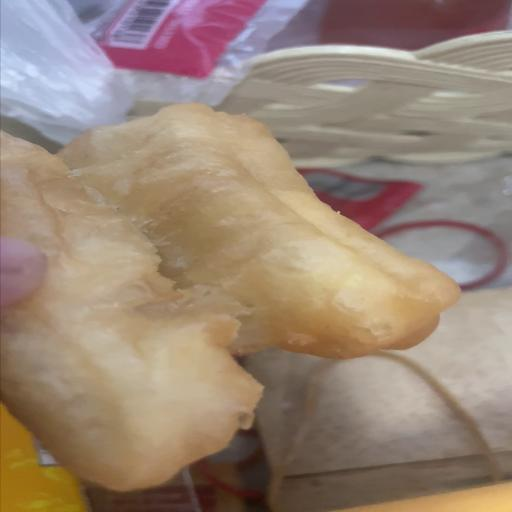street_golden_defect: (0, 107, 459, 502)
